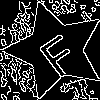F: (30, 25, 85, 80)
